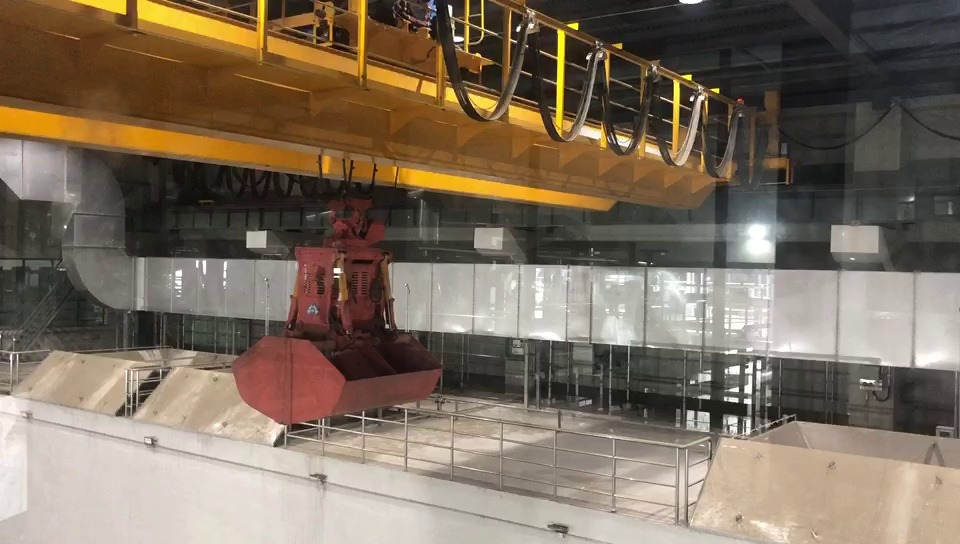grab: (228, 208, 446, 428)
